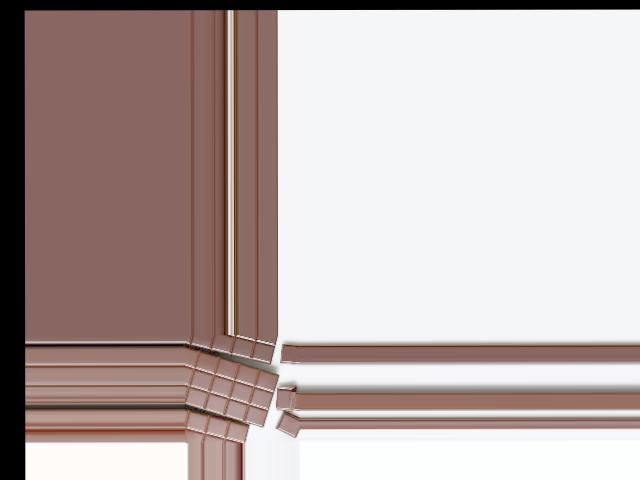chocolate: (183, 349, 277, 429)
